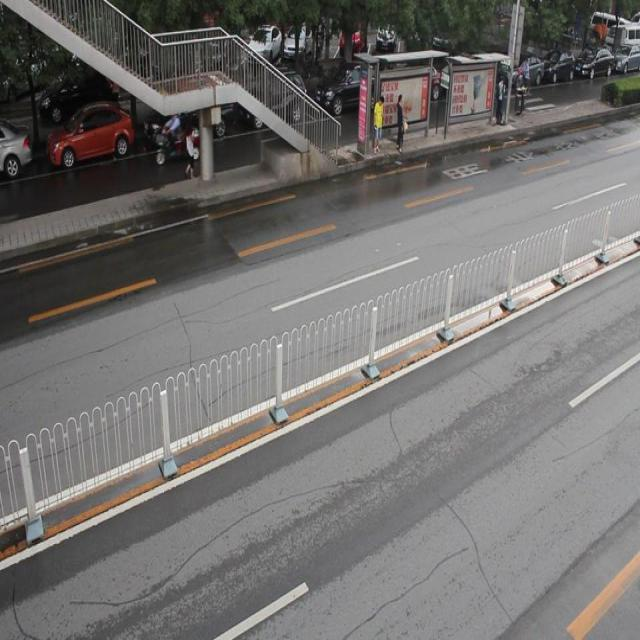car: (49, 106, 137, 171), (144, 92, 237, 144), (316, 62, 391, 119), (242, 72, 310, 133), (1, 125, 35, 181)
